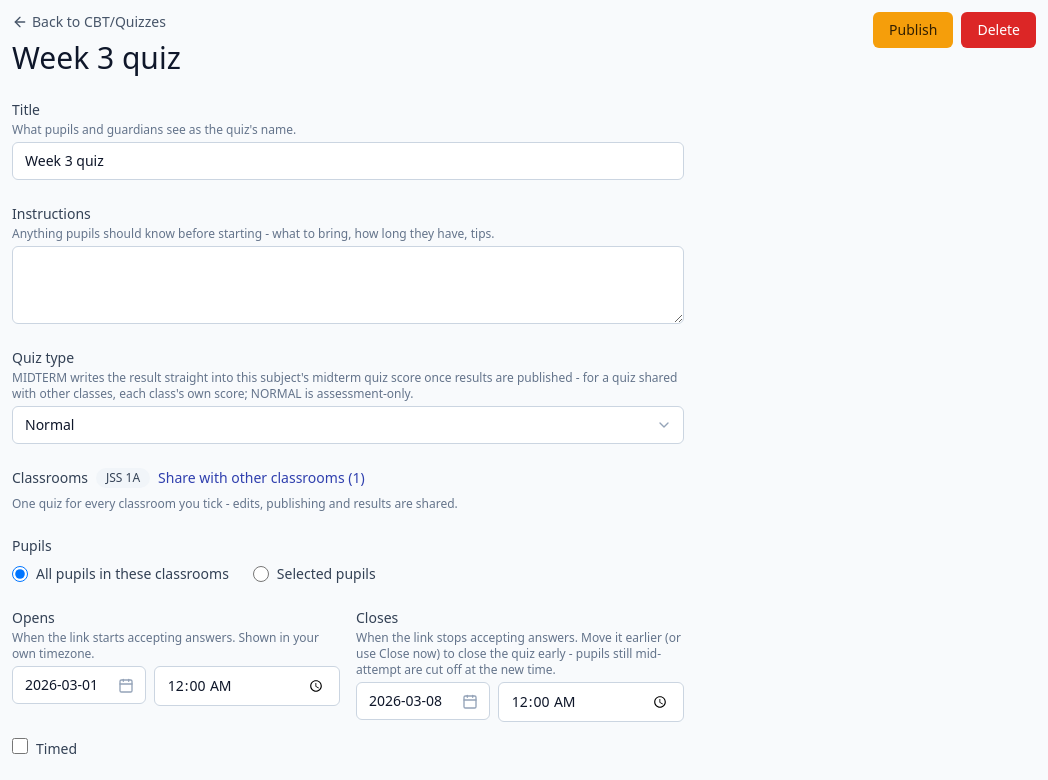
TakeHomeQuizEditorPage - an existing quiz › scrolls up to the error when a save fails
The width and height of the screenshot is (1048, 780).
Type "!" into the field showing "Week 3 quiz" at coordinates (348, 161), box [12,142,684,180]
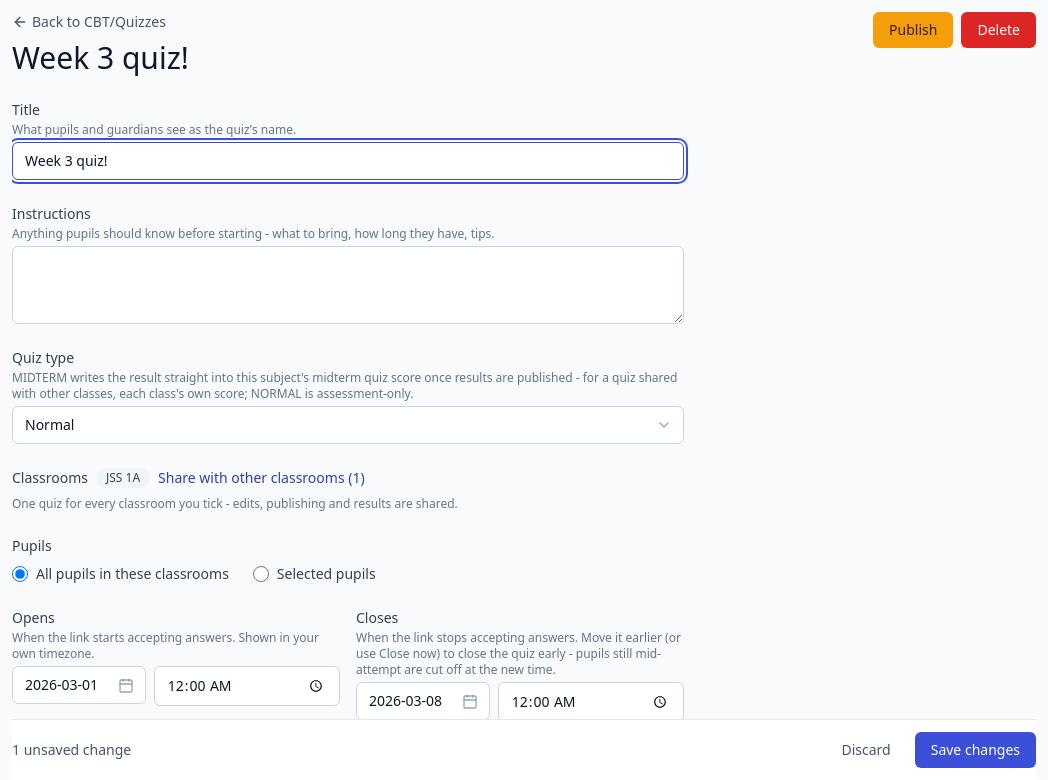
Click the button "Save changes" at coordinates (975, 750), box [915,732,1036,768]
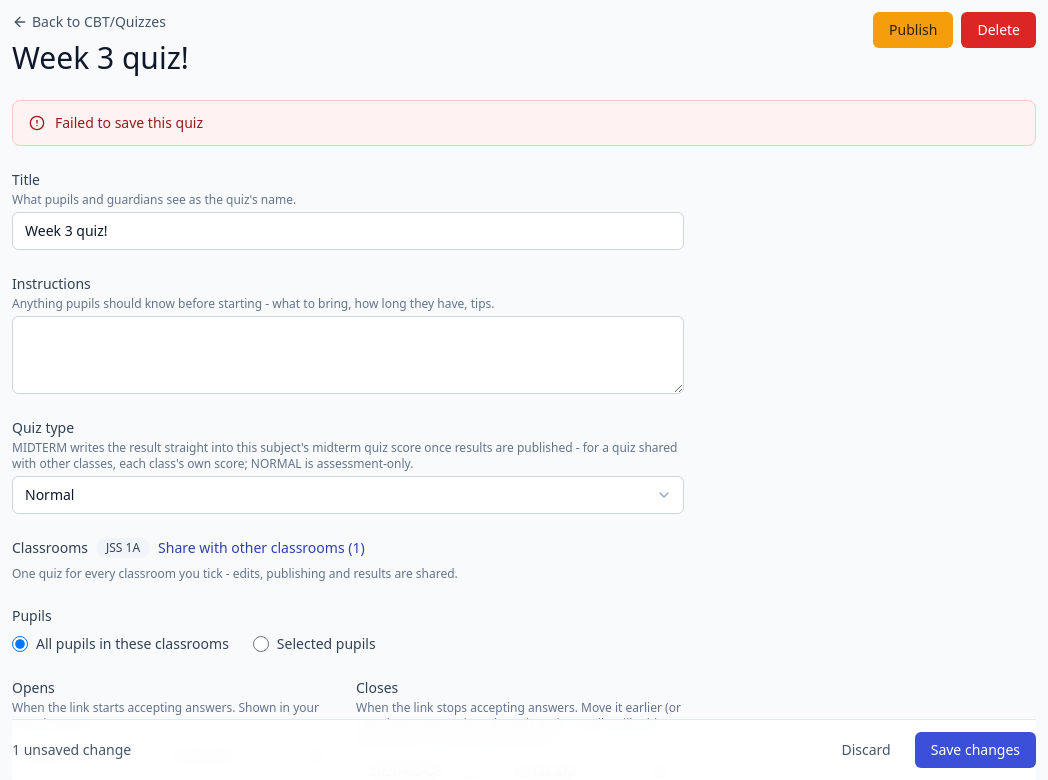
Now the text "Failed to save this quiz" is shown, box [55,113,203,133]
